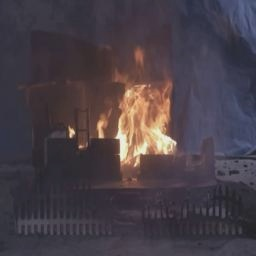fire: (97, 46, 184, 166)
